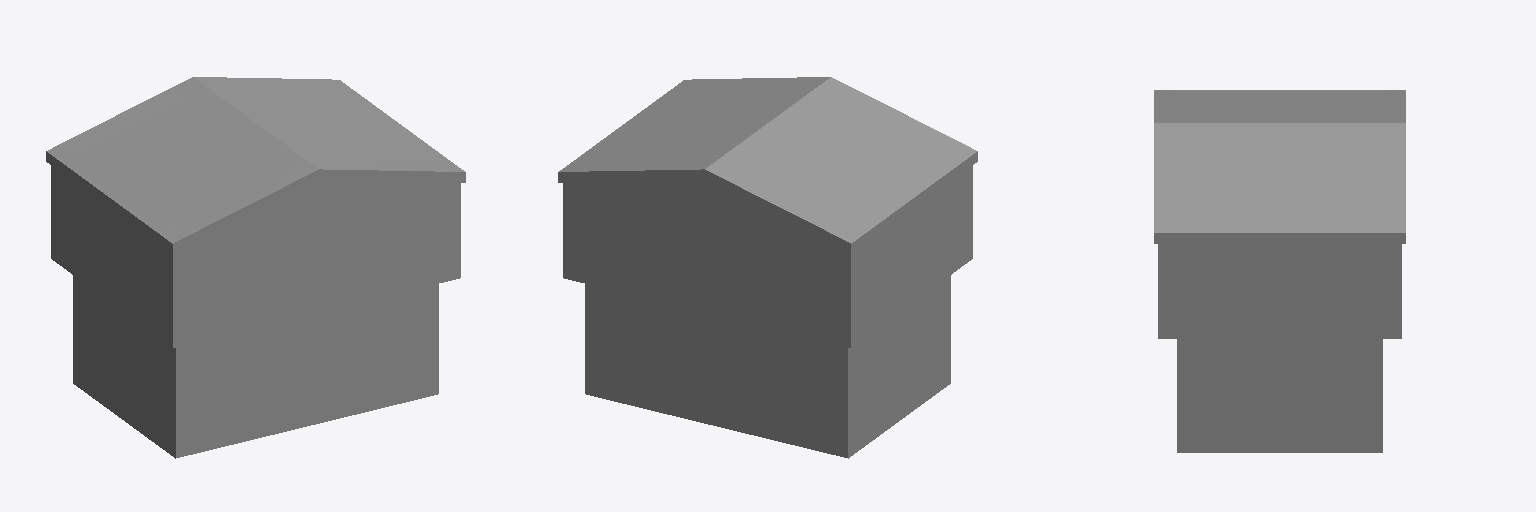
Rendered from Fian_House.obj.
The picture shows the model from 3 angles: view 1: azimuth 30°, elevation 25°; view 2: azimuth 150°, elevation 25°; view 3: azimuth 270°, elevation 25°; orthographic projection.
Parts seen in each view (by area): view 1: polySurface1 house:Mesh; view 2: polySurface1 house:Mesh; view 3: polySurface1 house:Mesh.
Part boxes in pixels (x1,y1,x2,y2): polySurface1 house:Mesh: (46,77,465,458); polySurface1 house:Mesh: (558,77,977,458); polySurface1 house:Mesh: (1154,90,1405,452).
Bounding box in the file's own units: 5.91 × 5.12 × 4.42.